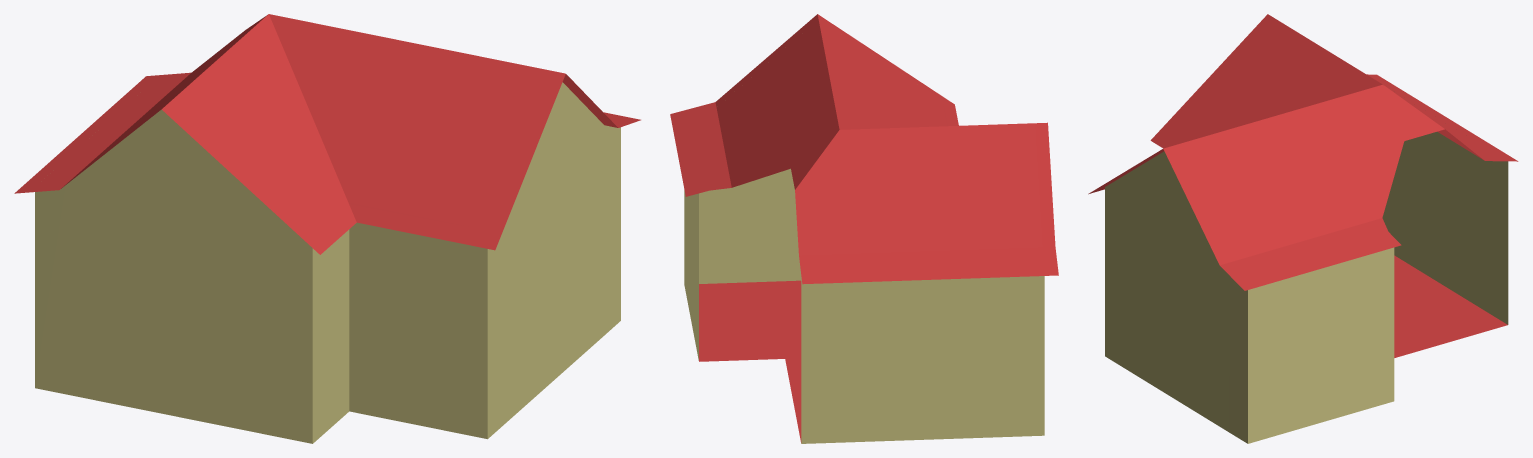
The picture shows the model from 3 angles, left to right: view 1: azimuth 30°, elevation 25°; view 2: azimuth 150°, elevation 25°; view 3: azimuth 270°, elevation 25°; orthographic projection. The views are drawn at different scales.
Size of the model in its own units: 20 by 16.85 by 10.9.
